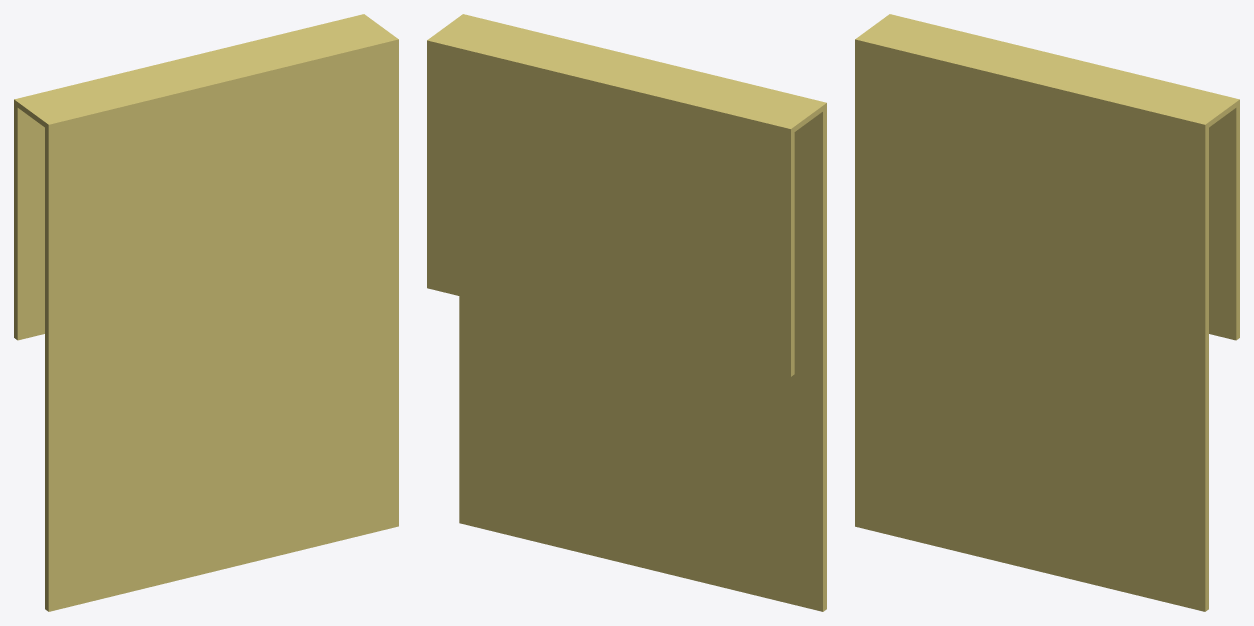
File: Itr_Towel_08.FBX
3 renders of one model, left to right at view 1: azimuth 30°, elevation 25°; view 2: azimuth 150°, elevation 25°; view 3: azimuth 330°, elevation 25°, orthographic. The views are drawn at different scales.
Parts seen in each view (by area): view 1: Itr_Towel_08; view 2: Itr_Towel_08; view 3: Itr_Towel_08.
Part boxes in pixels (x1,y1,x2,y2): Itr_Towel_08: (14, 14, 398, 611); Itr_Towel_08: (427, 14, 826, 611); Itr_Towel_08: (855, 14, 1239, 611).
Size of the model in its own units: 17.26 by 22.96 by 2.97.
